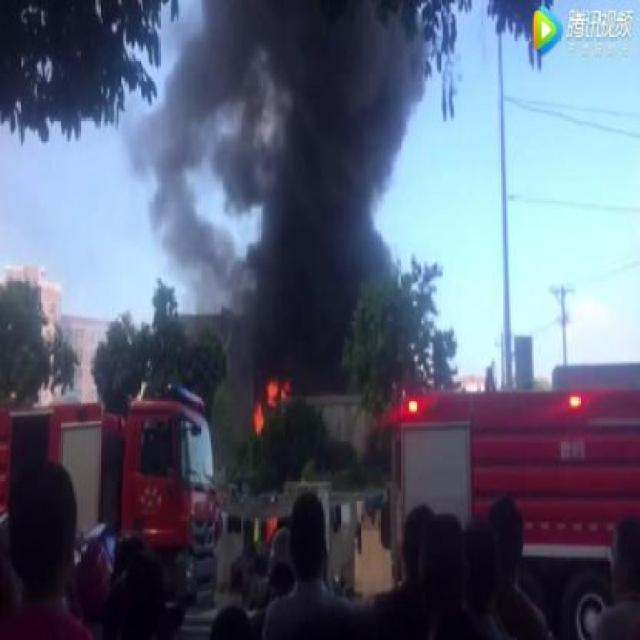Fire: (248, 372, 290, 432)
Smoke: (166, 2, 427, 370)
